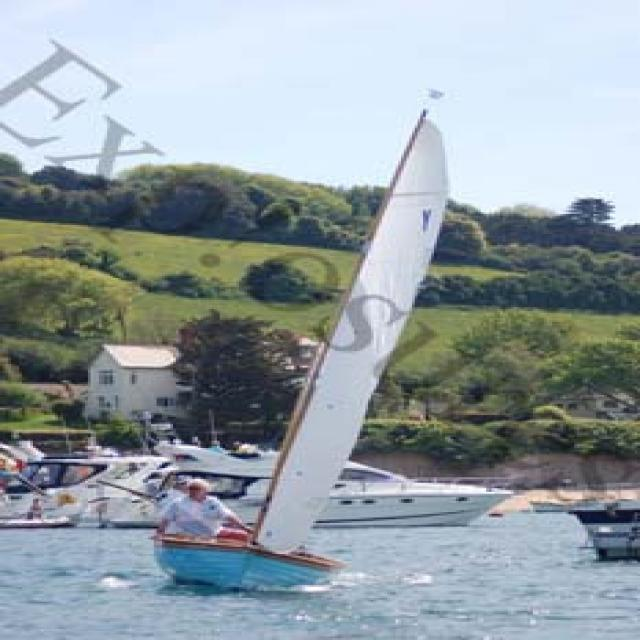Ship: (128, 95, 450, 600)
